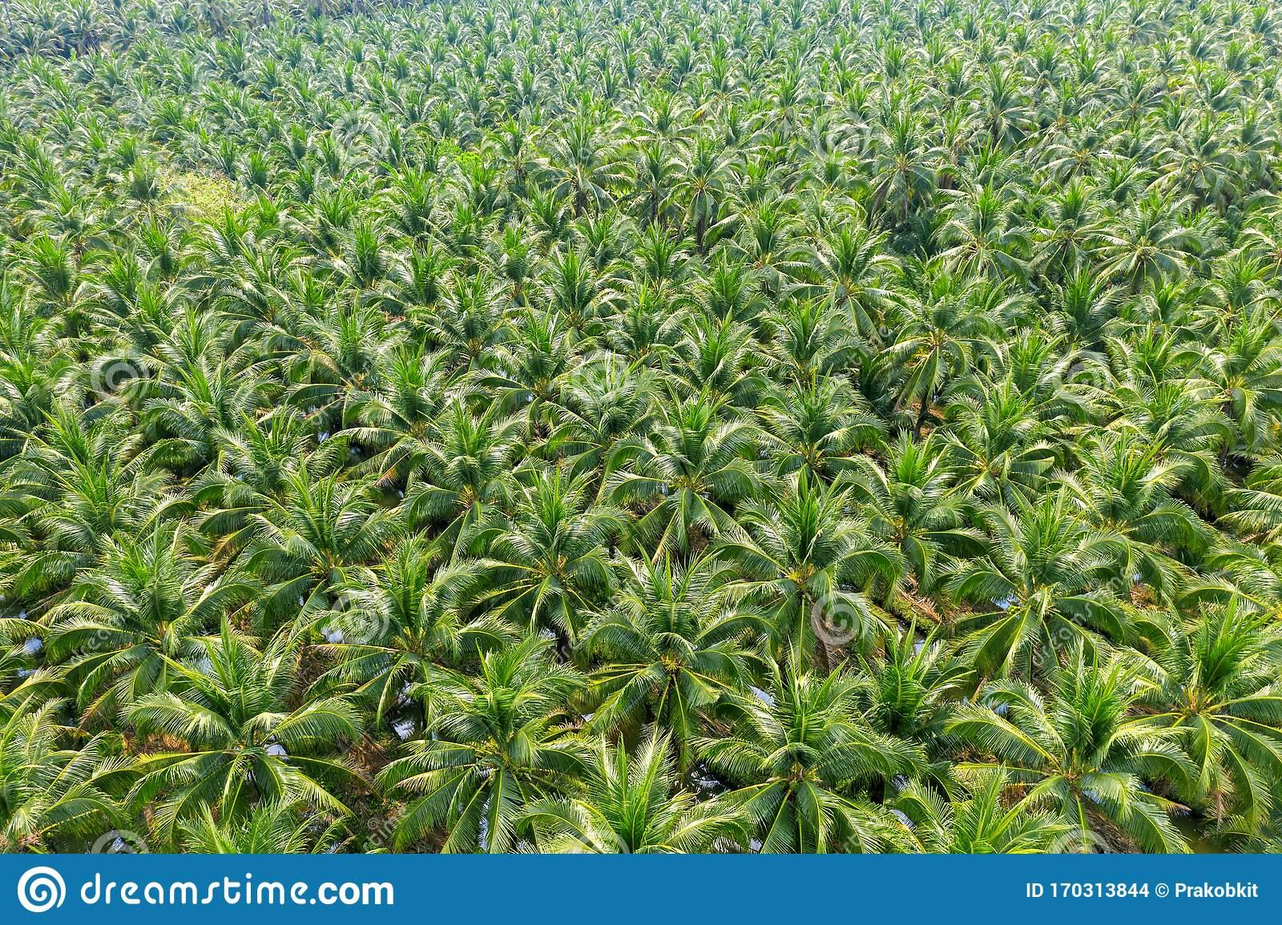coconut_tree: (129, 649, 395, 829), (947, 674, 1224, 840), (708, 676, 934, 851), (429, 663, 611, 840), (259, 480, 436, 645), (475, 485, 639, 636), (36, 441, 179, 587), (745, 497, 905, 620), (639, 417, 768, 549)
